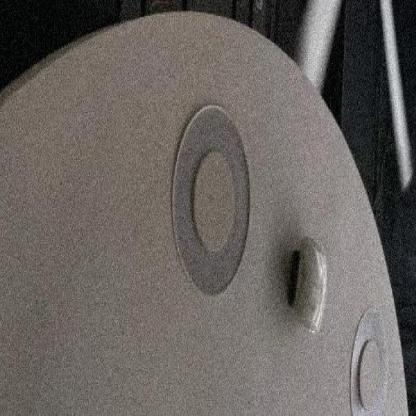light_off: (157, 51, 256, 338)
